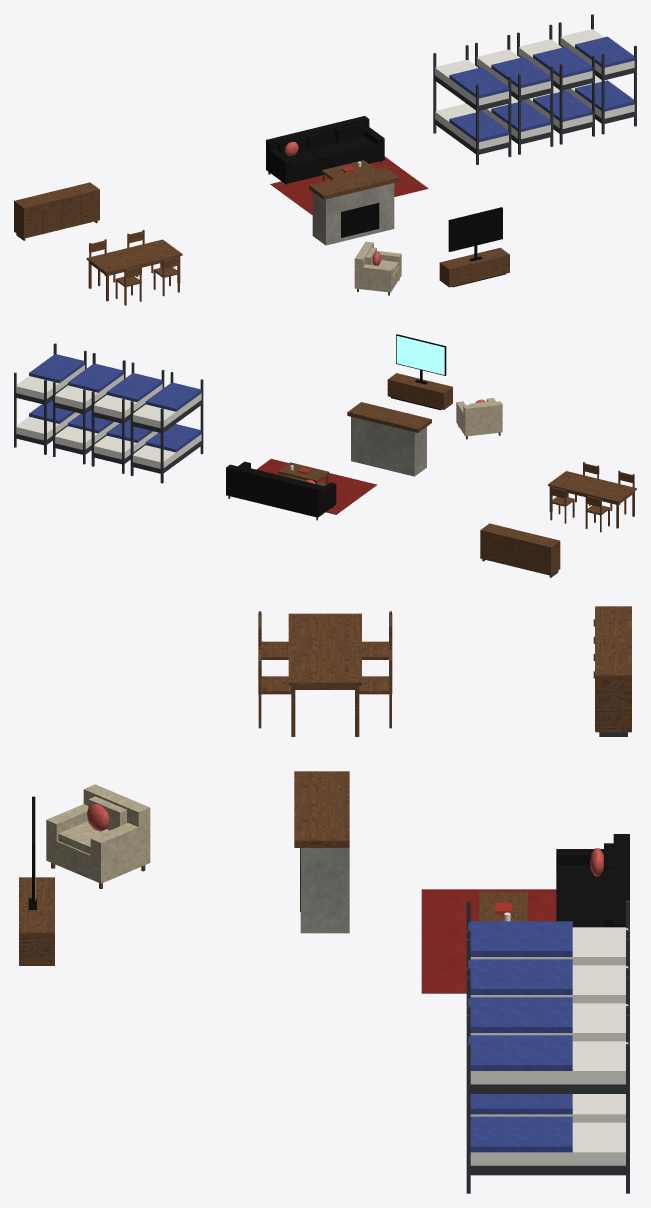
The model's file is i_viking_longhouse.gltf.
3 views of the same model, one above another, from view 1: azimuth 30°, elevation 25°; view 2: azimuth 150°, elevation 25°; view 3: azimuth 270°, elevation 25° (orthographic). The views are drawn at different scales.
Parts seen in each view (by area): view 1: I_viking_longhouse; view 2: I_viking_longhouse; view 3: I_viking_longhouse.
Boxes of the visible parts, box(x1,y1,x2,y2) form: I_viking_longhouse: box(14, 14, 636, 305); I_viking_longhouse: box(14, 334, 636, 577); I_viking_longhouse: box(19, 606, 631, 1193).
Bounding box in the file's own units: 15.2 × 2 × 7.5.
Materials: 14 (6 with a texture image).
